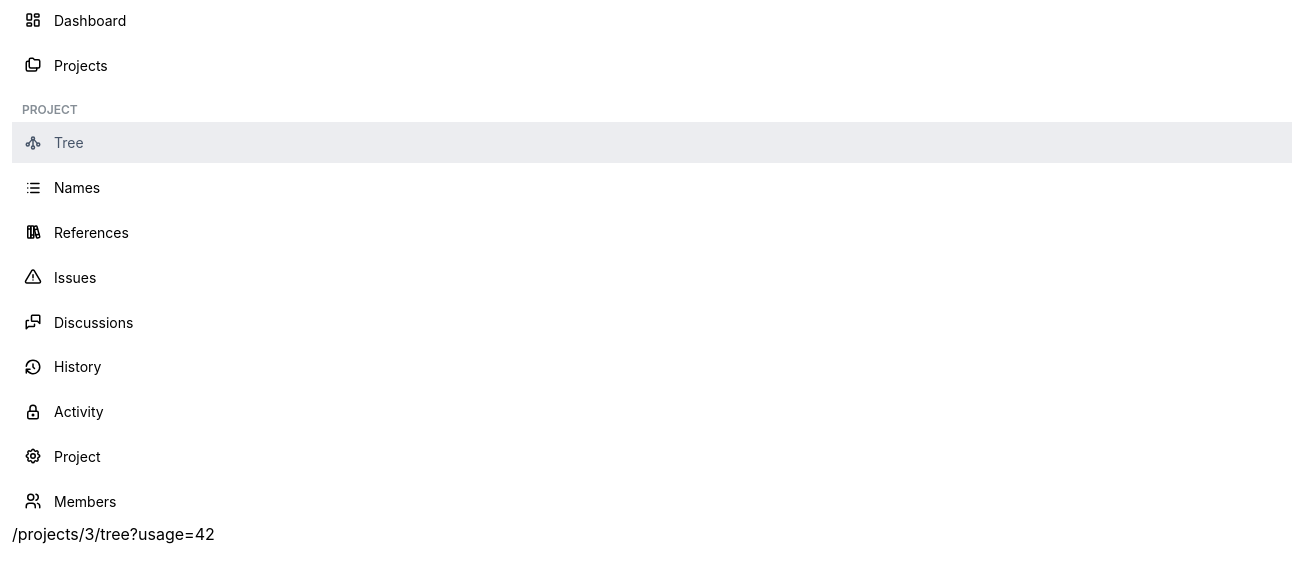
Test case: switching between Tree and Names keeps the selected ?usage=, other sections drop it
Click the text "Names" at point(77, 188), box x1=54 y1=179 x2=100 y2=196
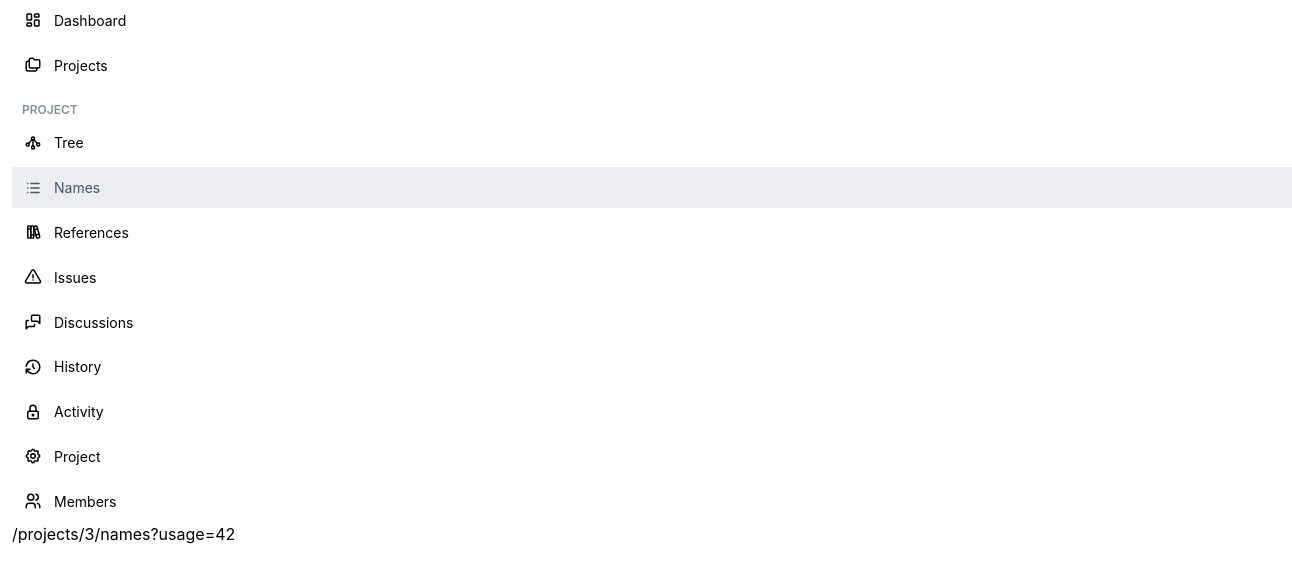
Expected: the text with test id "loc" reads "/projects/3/names?usage=42", x1=12 y1=524 x2=235 y2=544
Click the text "Tree" at point(69, 143), box x1=54 y1=134 x2=84 y2=151
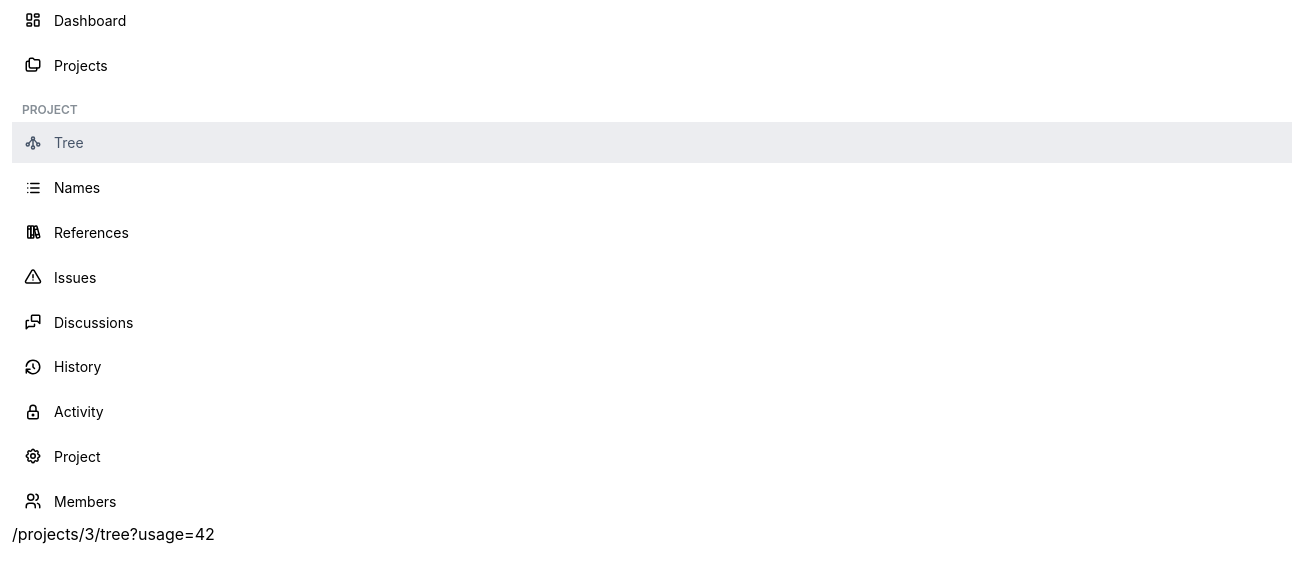
Expected: the text with test id "loc" reads "/projects/3/tree?usage=42", x1=12 y1=524 x2=215 y2=544
Click the text "References" at point(91, 232), box x1=54 y1=224 x2=129 y2=241
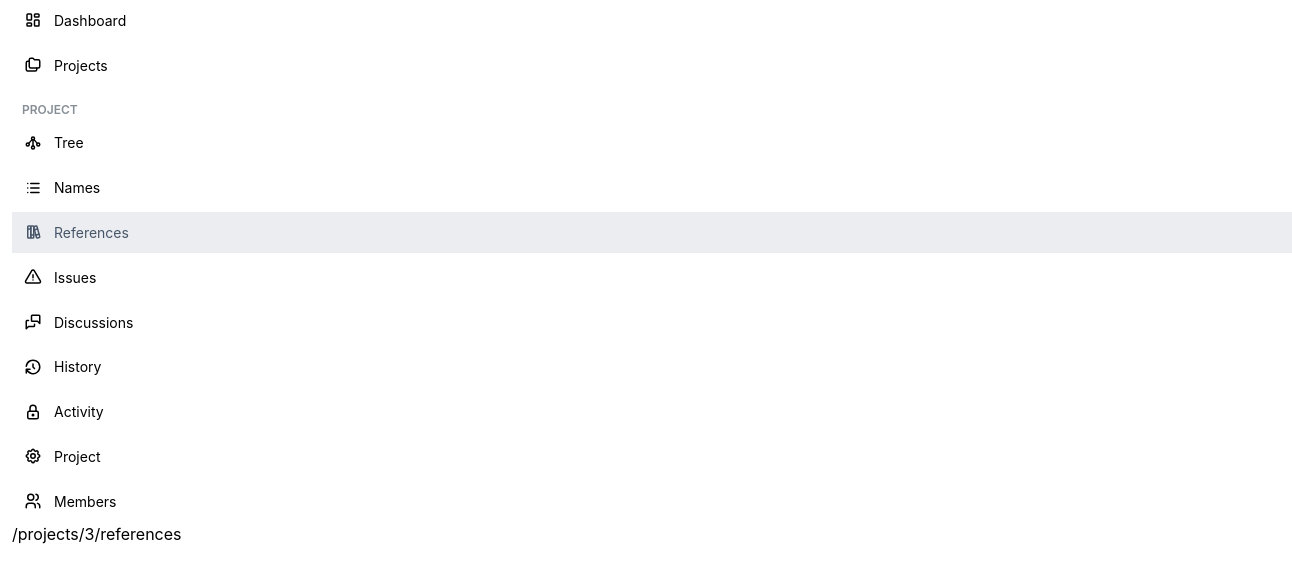
Expected: the text with test id "loc" reads "/projects/3/references", x1=12 y1=524 x2=182 y2=544
